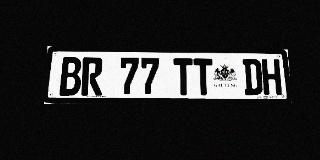7: (119, 58, 139, 95), (140, 58, 160, 95)
B: (59, 57, 82, 96)
D: (243, 59, 263, 95)
H: (261, 59, 282, 95)
R: (81, 57, 103, 96)
T: (173, 58, 193, 95), (193, 58, 213, 95)
